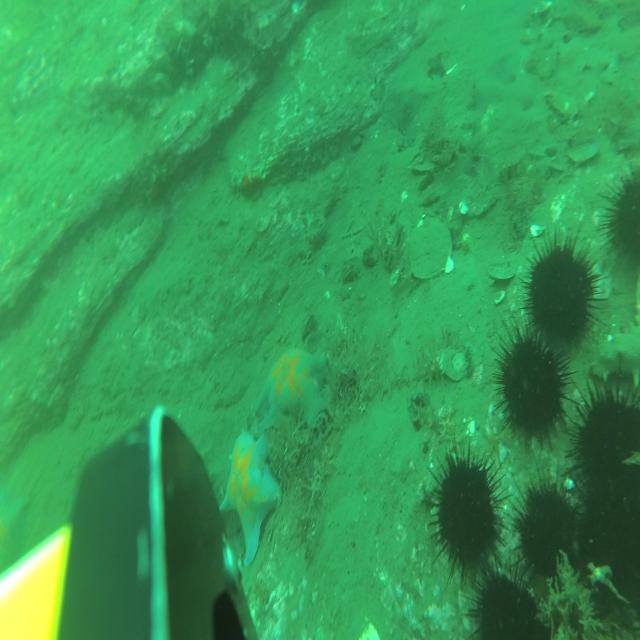echinus: (429, 444, 510, 580), (573, 372, 640, 514), (502, 314, 572, 449), (528, 232, 605, 352), (512, 466, 577, 594), (578, 482, 640, 598), (465, 562, 538, 640), (599, 161, 640, 292)
holothurian: (590, 283, 640, 381)
scallop: (410, 220, 452, 282), (438, 347, 470, 382), (489, 261, 515, 283)
starfish: (220, 428, 280, 569), (262, 346, 326, 434)
